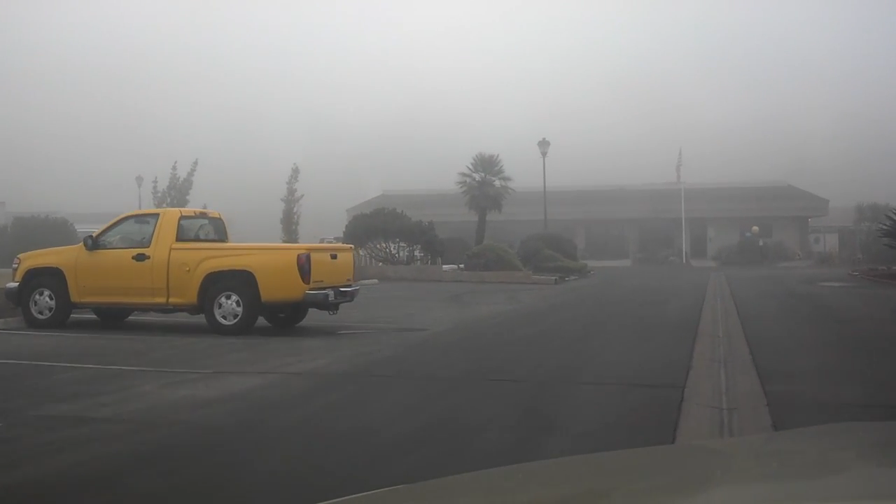car: (2, 205, 360, 334)
